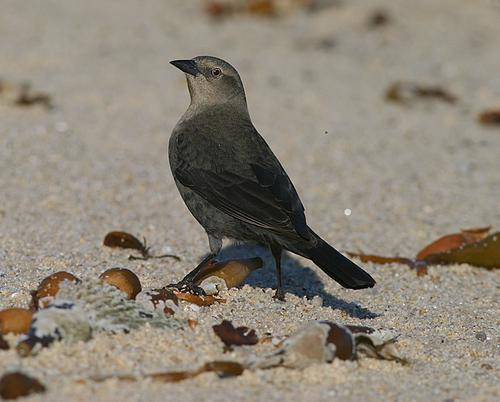009.Brewer_Blackbird: (156, 55, 377, 305)
